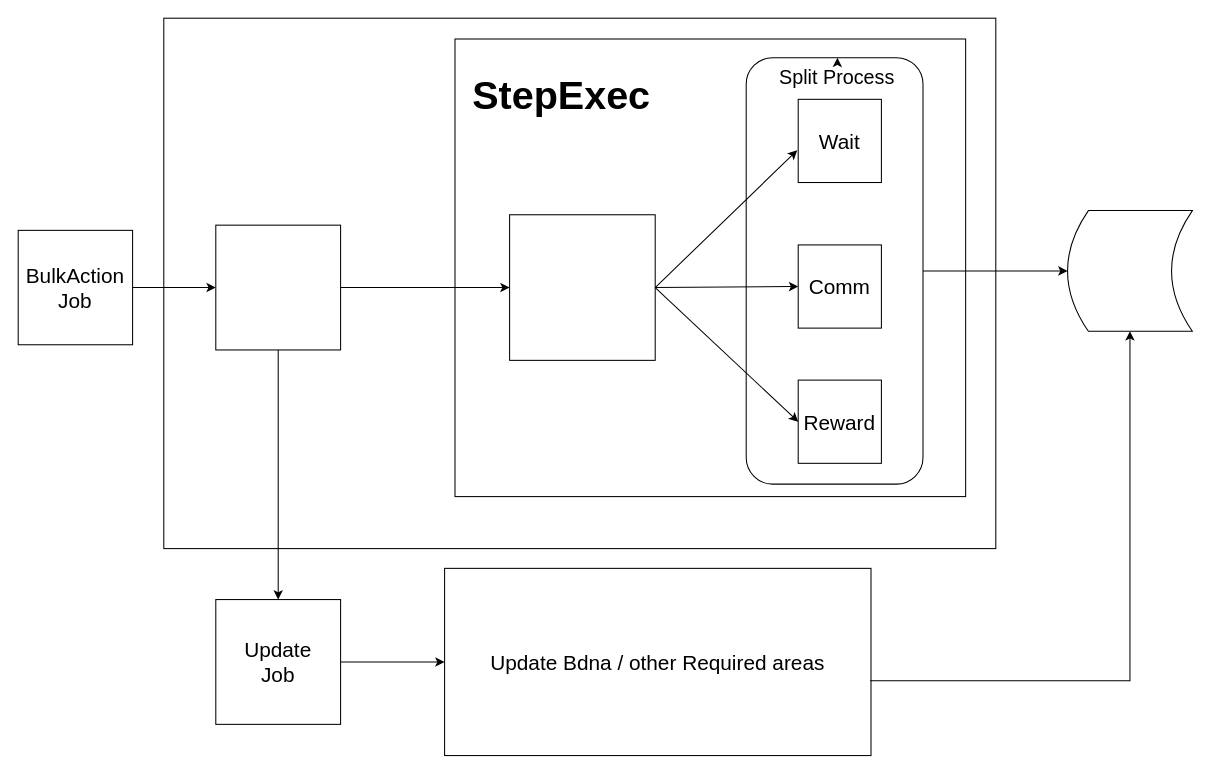
Some shapes in this 1211 by 774 pixel diagram are drawn without their labels. The shapes that lost their labels are listed below. From the top down, each one's box as (x1, y1, x2, y2) in pixels, then its label:
(215, 224, 341, 350): Main Job
(509, 214, 655, 360): split thread_size based on step_type
(1067, 210, 1192, 331): BDNA Update Query
